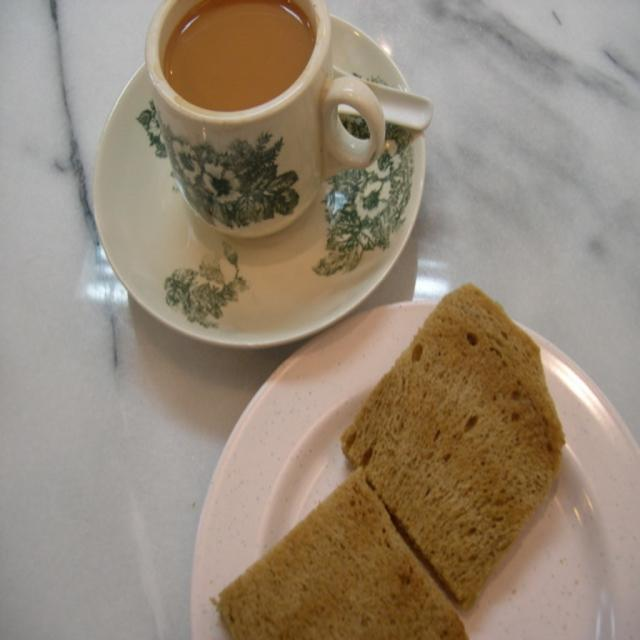Coffee: (150, 22, 412, 260)
Tea: (163, 0, 315, 107)
